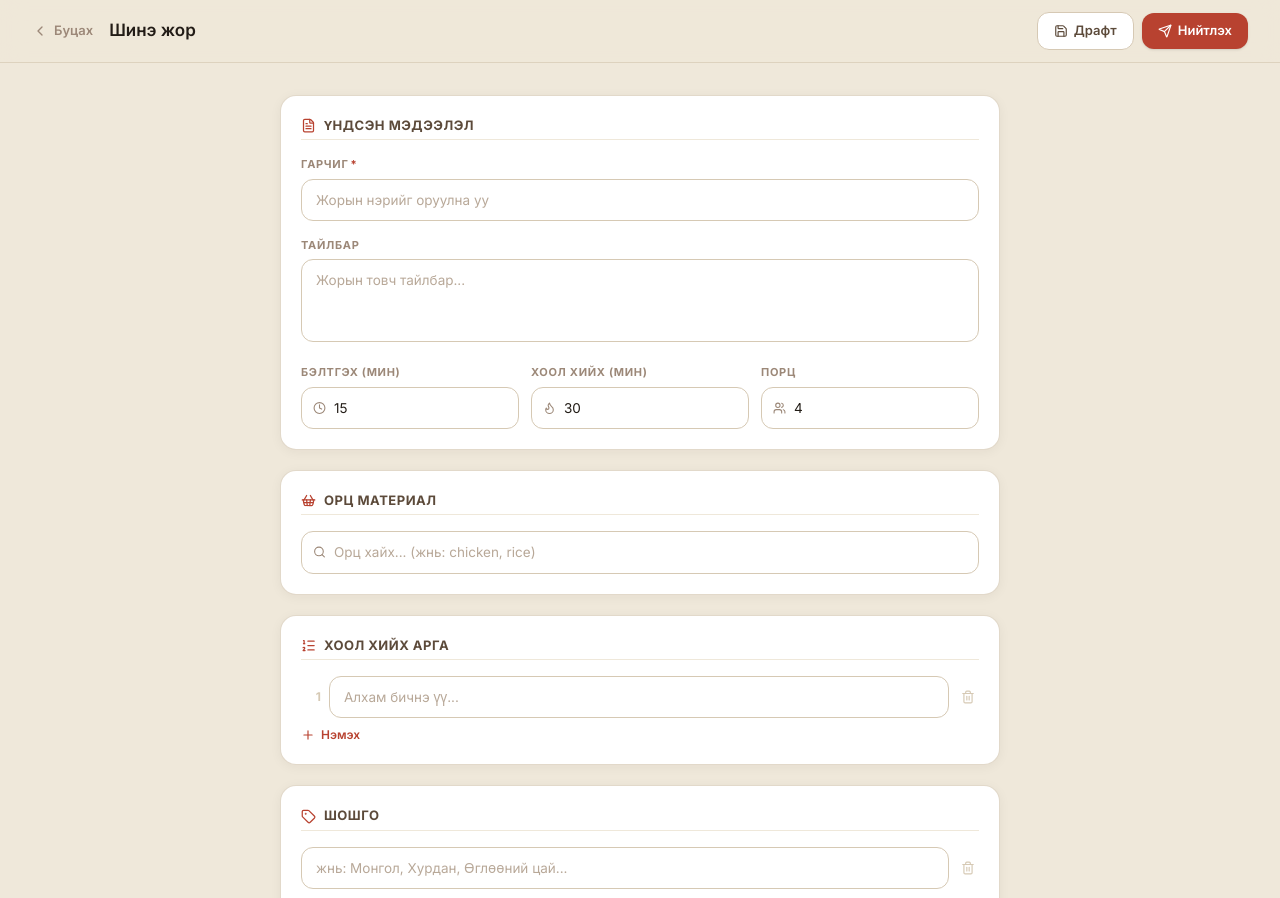
Test: NewRecipePage — create recipe › shows error when ingredients are missing on publish
Type "Test Recipe" into the field with placeholder "Жорын нэрийг оруулна уу".
click(640, 200); type("Test Recipe")  # box [301,178,979,221]
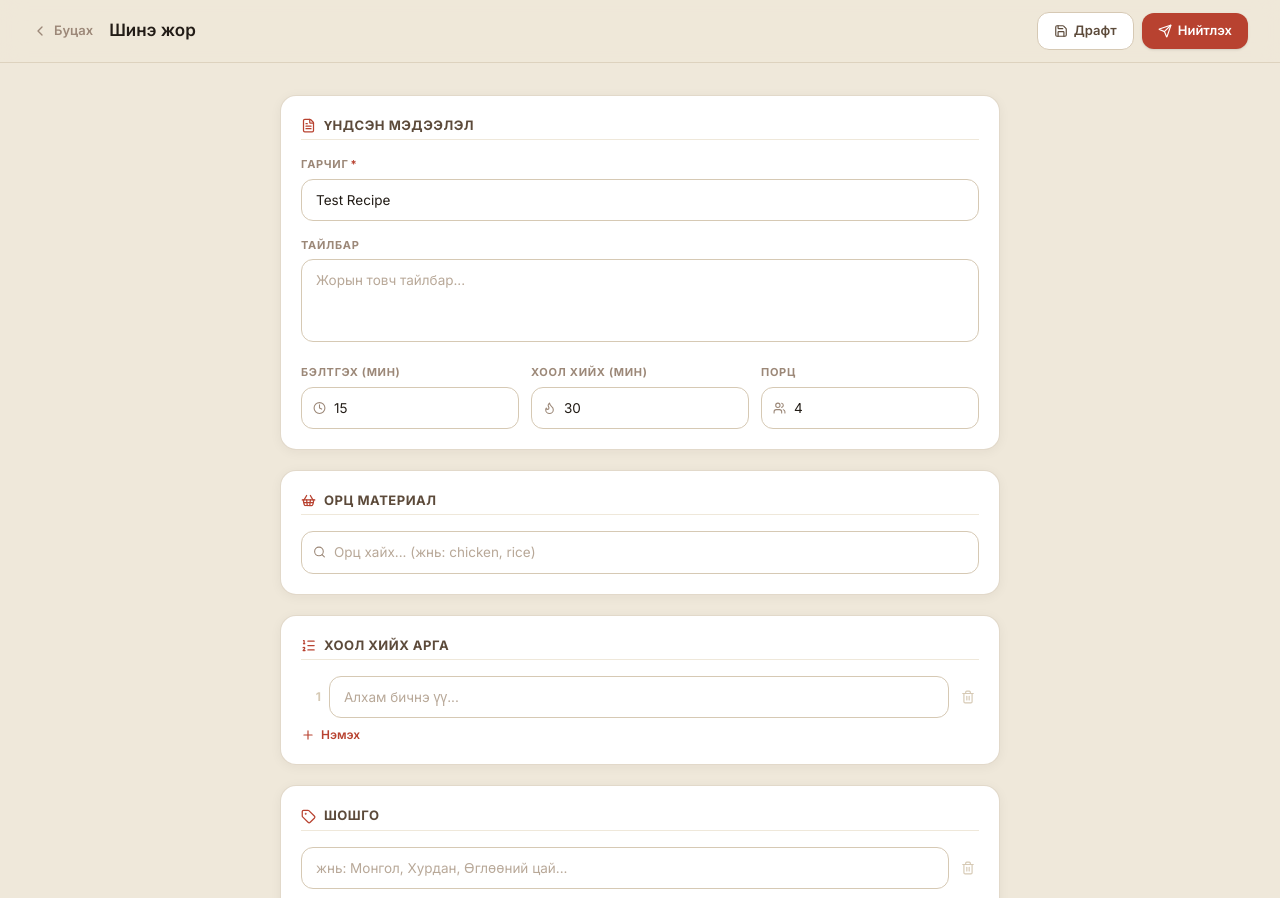
Type "Only step" into the field with placeholder "Алхам бичнэ үү...".
click(639, 697); type("Only step")  # box [329,676,949,718]
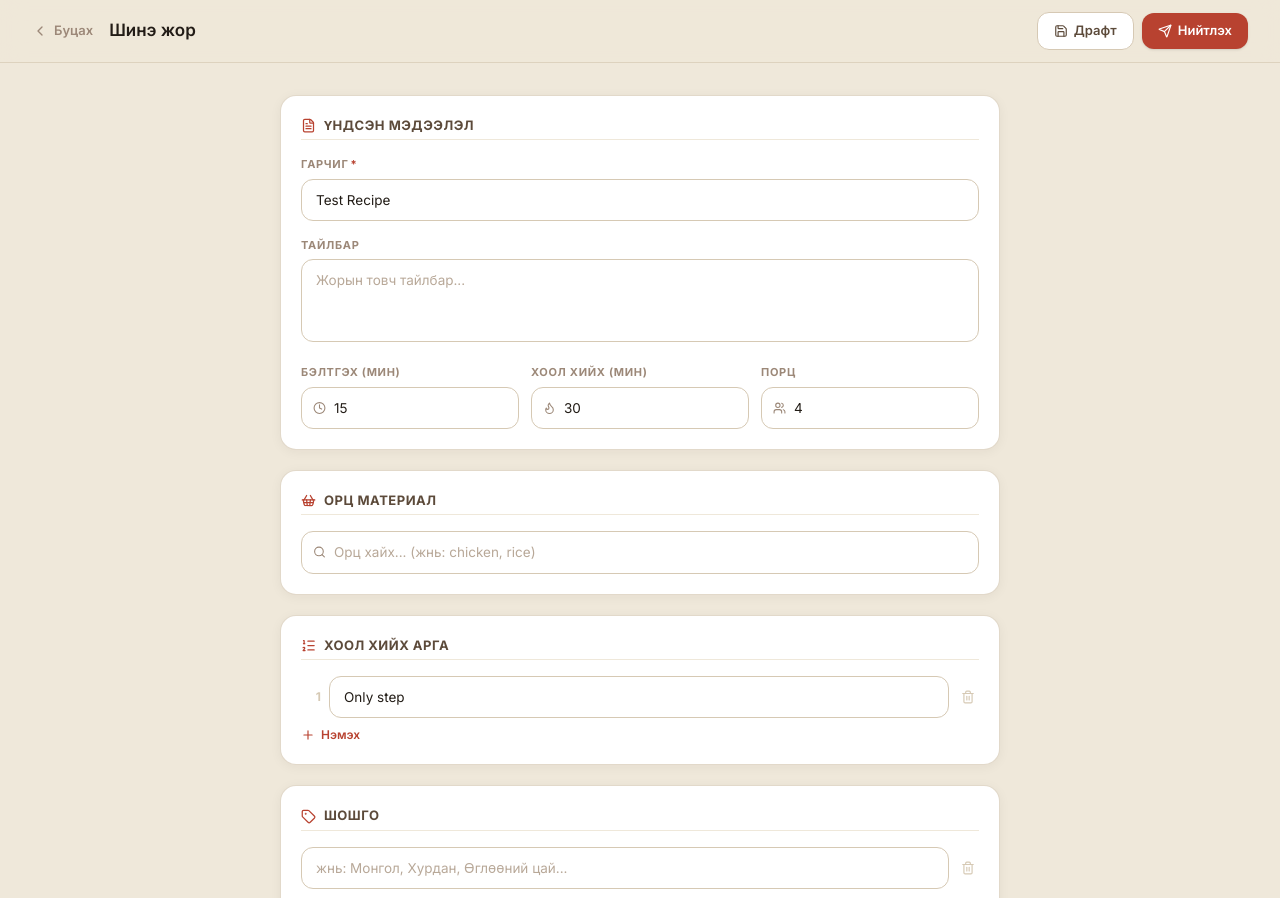
Click the button "Нийтлэх".
click(1195, 31)  # box [1142,13,1248,48]
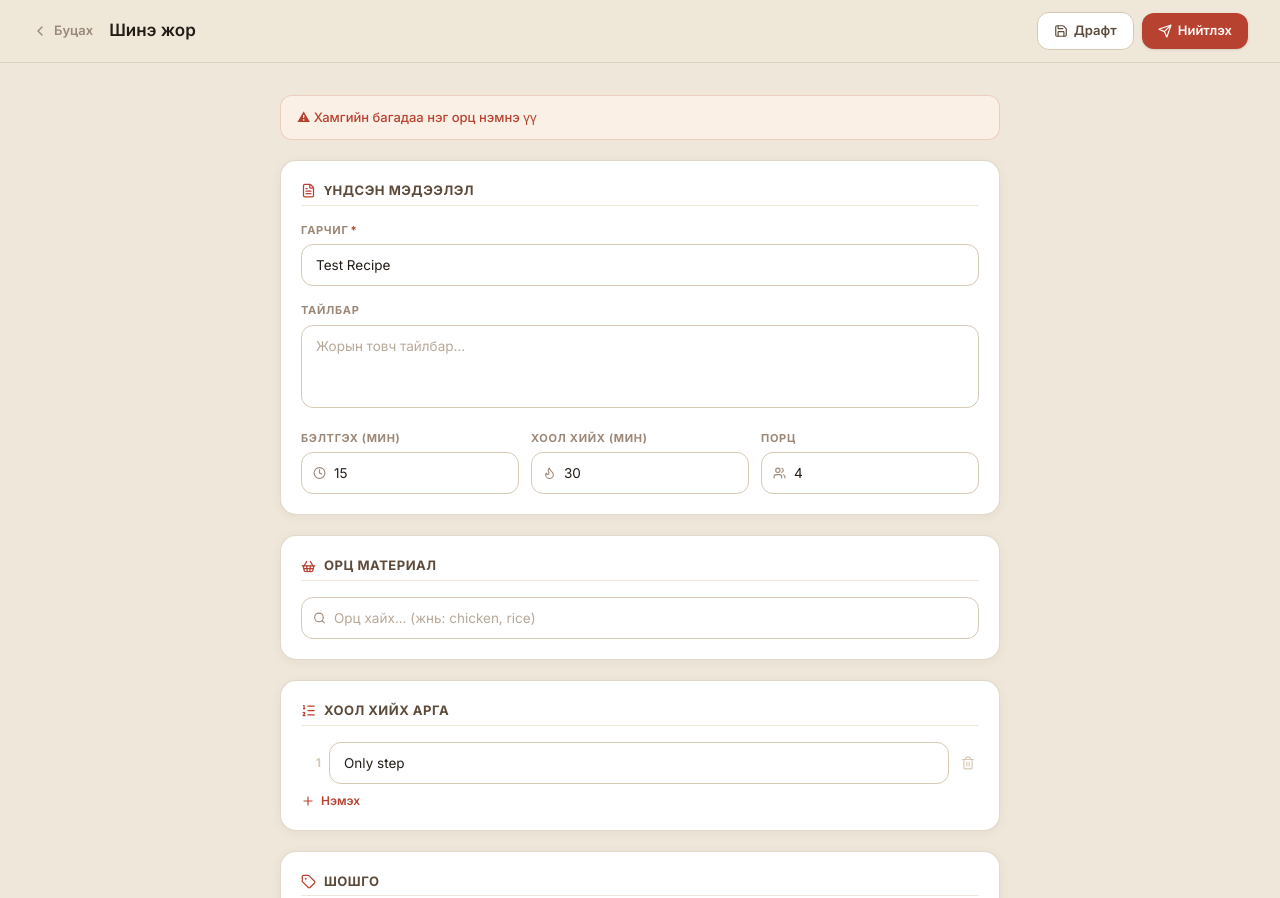
Result: the text "⚠ Хамгийн багадаа нэг орц нэмнэ үү" is shown at [280,94,1000,140]
